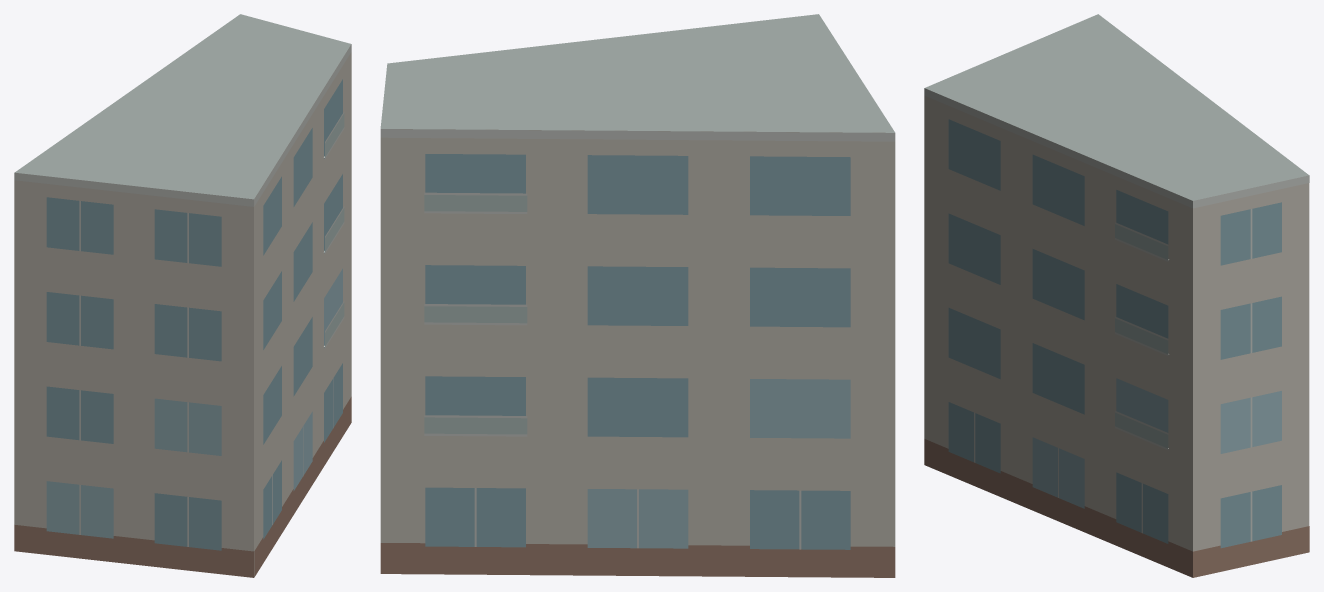
Rendered from survey-upis-32496443.glb.
3 views of the same model, side by side, from view 1: azimuth 30°, elevation 25°; view 2: azimuth 150°, elevation 25°; view 3: azimuth 270°, elevation 25° (orthographic). The views are drawn at different scales.
Parts seen in each view (by area): view 1: survey-upis-32496443.tmp; view 2: survey-upis-32496443.tmp; view 3: survey-upis-32496443.tmp.
Boxes of the visible parts, x1,y1,x2,y2 form: survey-upis-32496443.tmp: [14, 14, 351, 577]; survey-upis-32496443.tmp: [380, 14, 895, 577]; survey-upis-32496443.tmp: [924, 14, 1309, 577].
Size of the model in its own units: 12.99 by 12.2 by 11.3.
